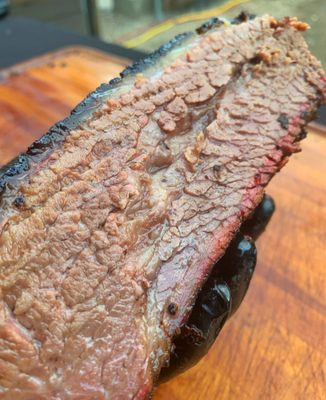sandwich: (0, 13, 322, 396)
